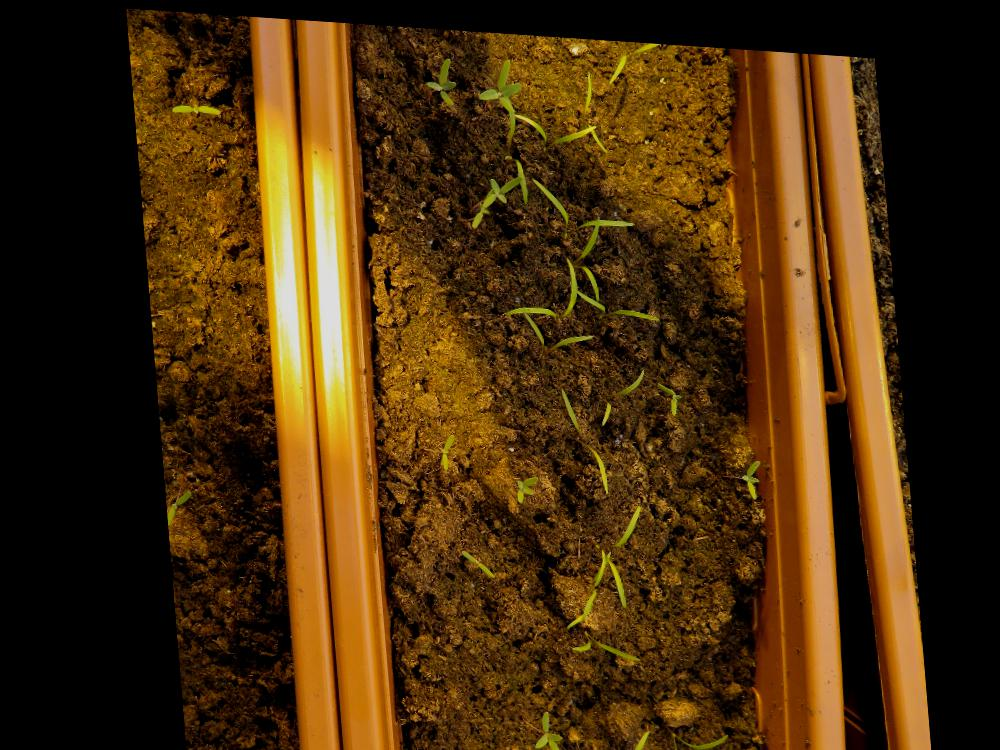crop: (603, 32, 686, 82), (590, 357, 645, 420), (559, 627, 631, 653)
weed: (519, 699, 558, 749), (424, 48, 459, 99), (450, 543, 489, 573), (648, 372, 681, 406), (732, 447, 758, 489), (507, 467, 534, 497), (432, 424, 451, 465), (169, 99, 223, 113)
